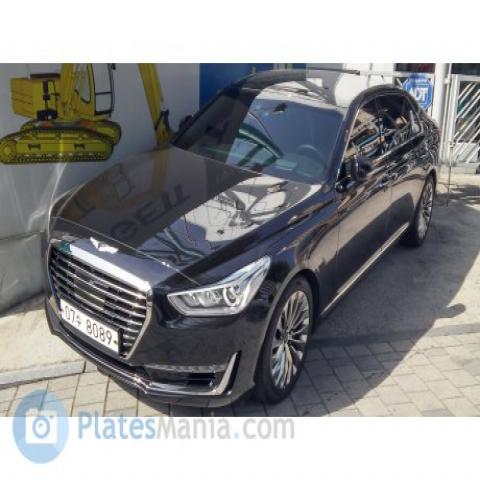LP: (54, 290, 128, 362)
